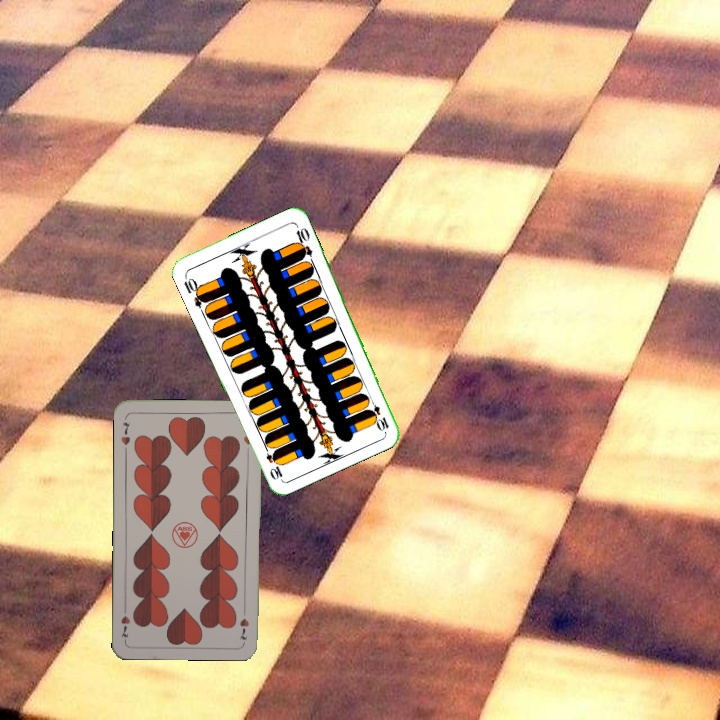E10: (180, 271, 209, 310), (365, 394, 391, 433)
H7: (236, 604, 252, 642), (117, 419, 133, 447)
